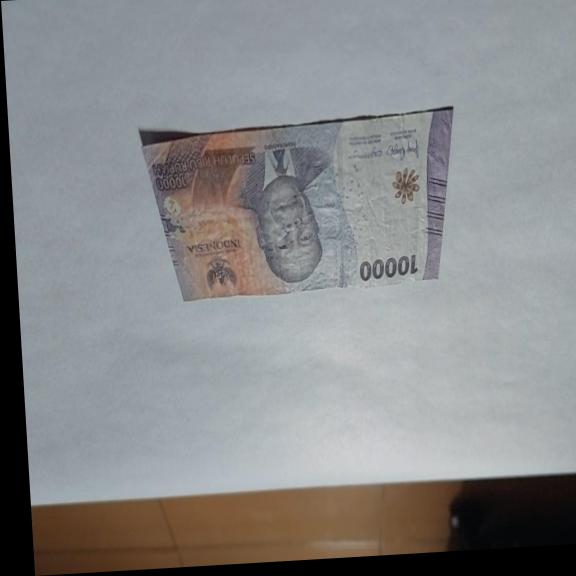Kertas: (137, 106, 464, 305)
